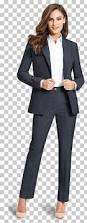F_W_suit jacket: (16, 34, 83, 115)
F_shirt: (45, 32, 66, 87)
S_W_pants: (17, 112, 74, 207)
